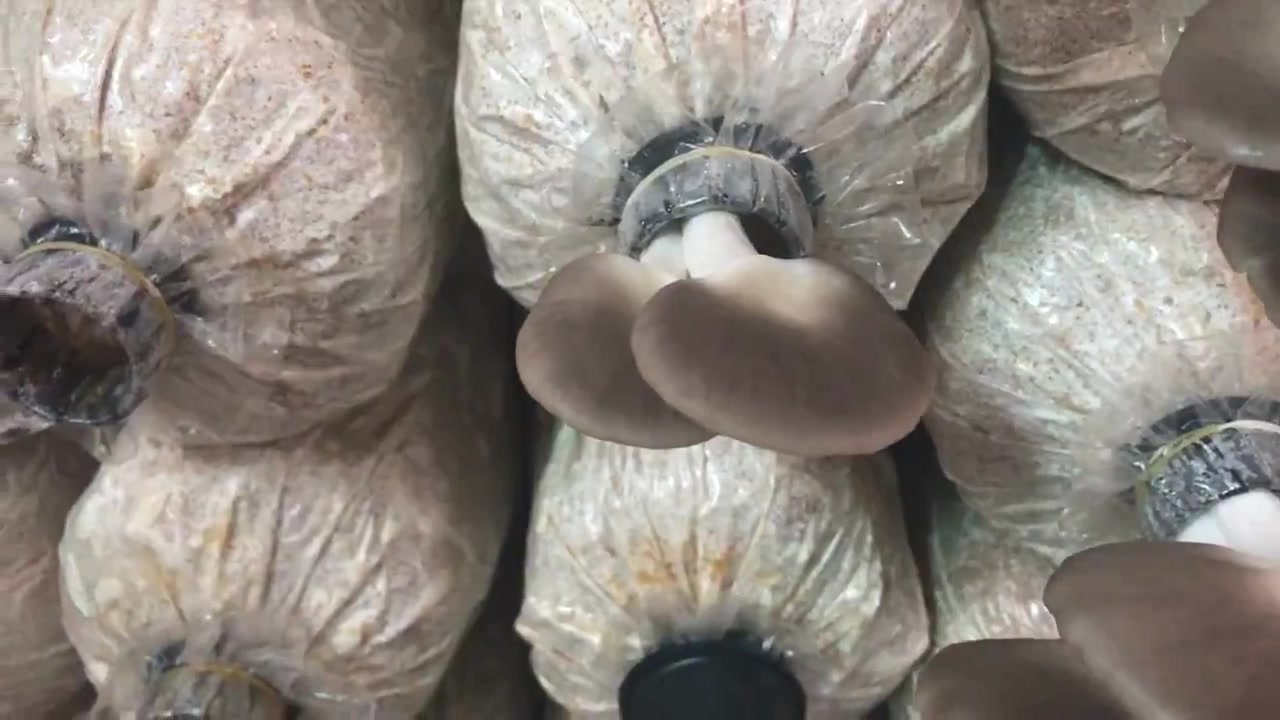nam: (518, 125, 938, 459), (913, 425, 1279, 720), (1161, 4, 1280, 334)
